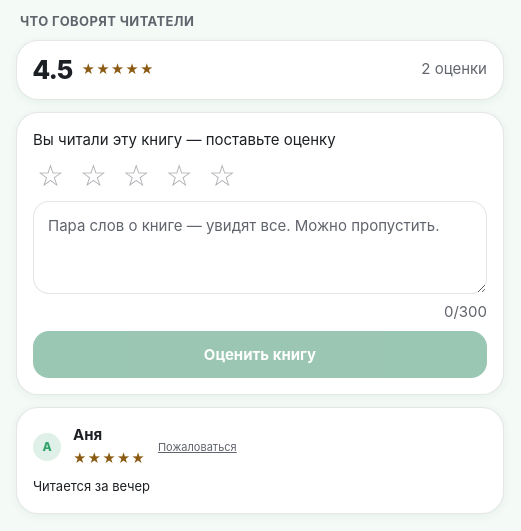
оценки и аннотации в карточке книги › читавшему показываем звёзды, и до выбора оценки кнопка выключена
Check: the button "Оценить книгу" is disabled, box top-left (33, 331), bottom-right (487, 378)
Click the button named "Оценка 4 из 5".
click(179, 176)  # box top-left (162, 159), bottom-right (197, 193)
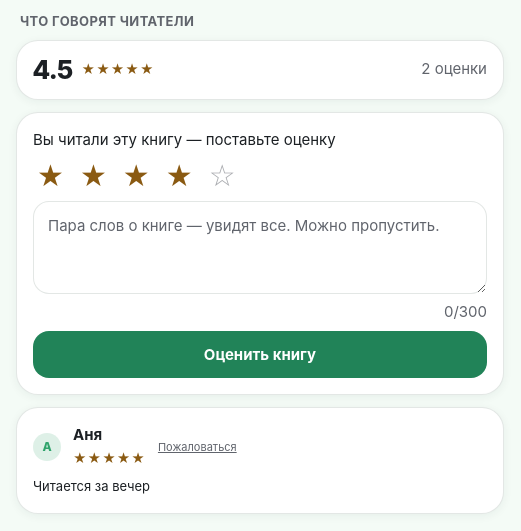
Check: the button "Оценить книгу" is enabled, box top-left (33, 331), bottom-right (487, 378)
